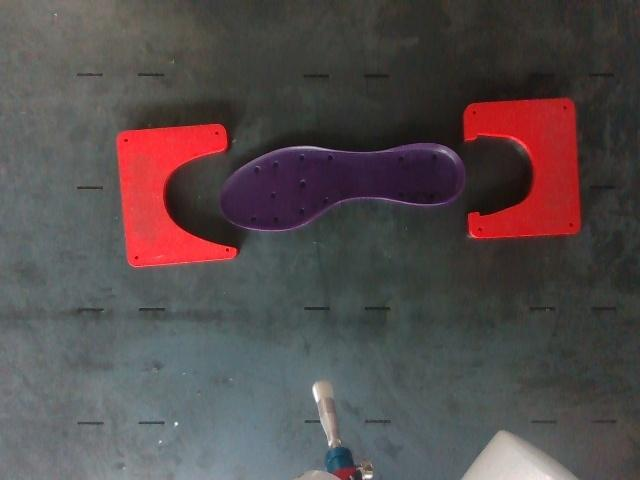shoes: (220, 145, 464, 230)
